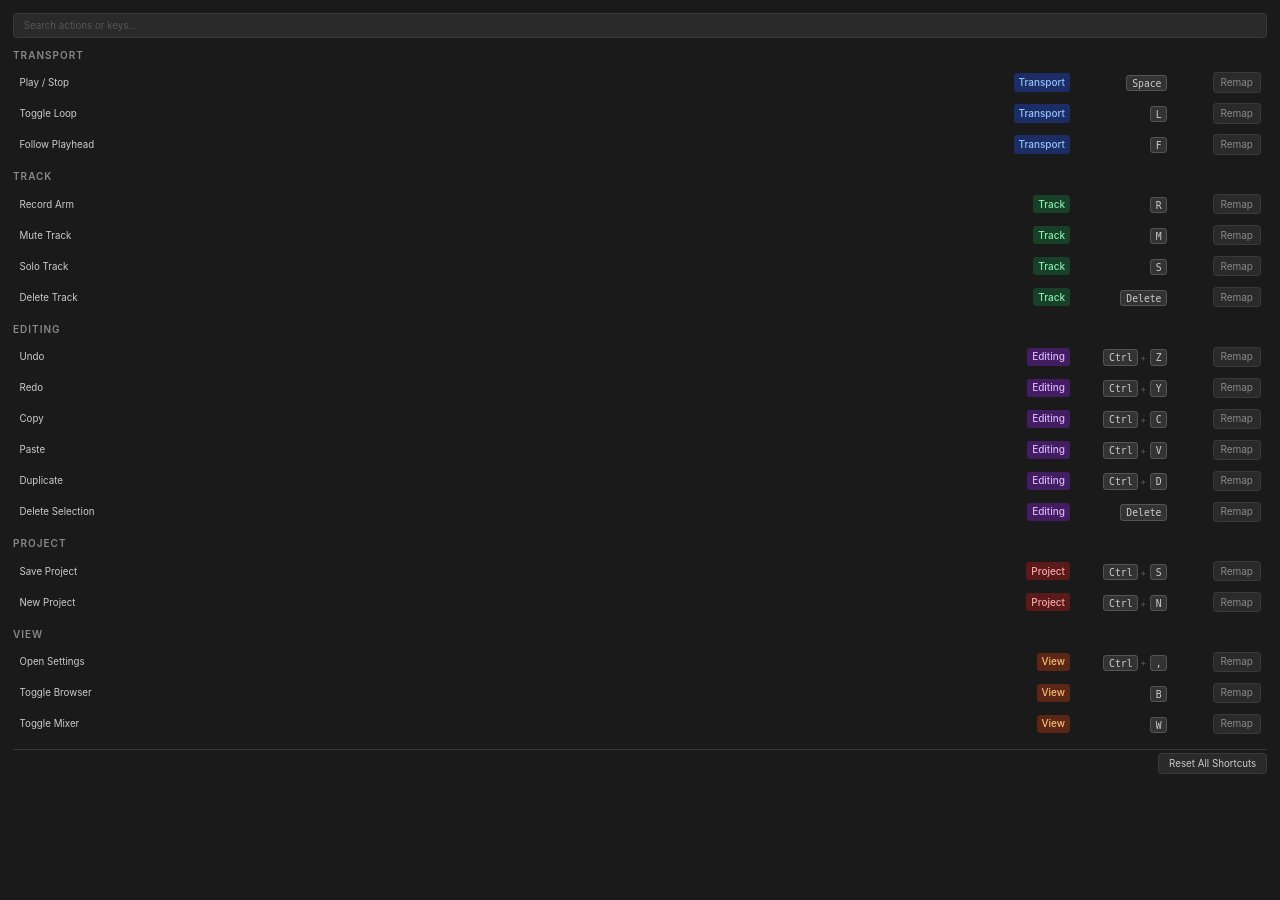
Test: ShortcutsSettingsTab › search filters by label (case-insensitive)
Type "loop" into the search field with placeholder "Search actions or keys..." at {"x": 640, "y": 25}, box x1=13 y1=13 x2=1267 y2=38
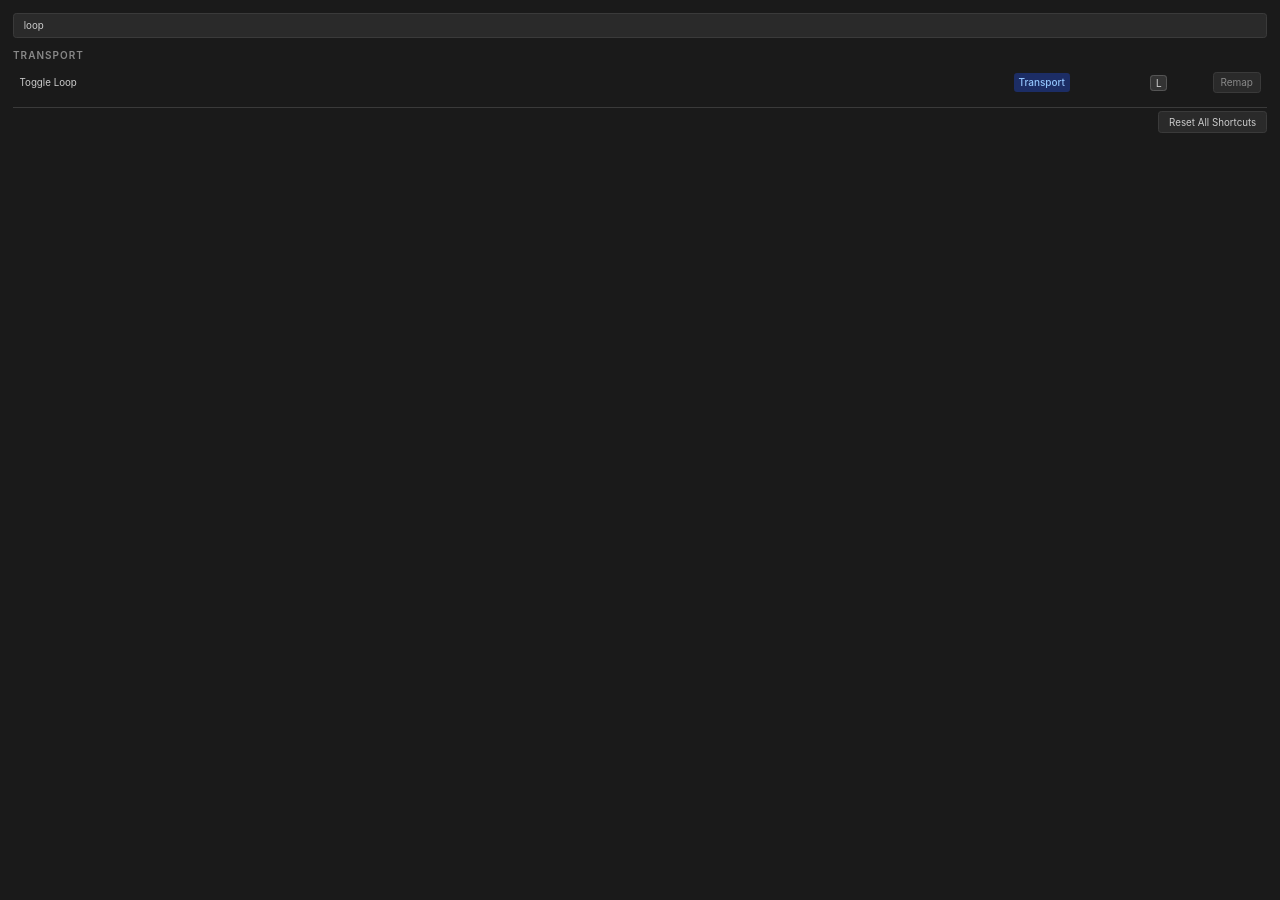
Expected: the text "Toggle Loop" is shown, x1=20 y1=77 x2=77 y2=88
Now the text "Save Project" is gone
